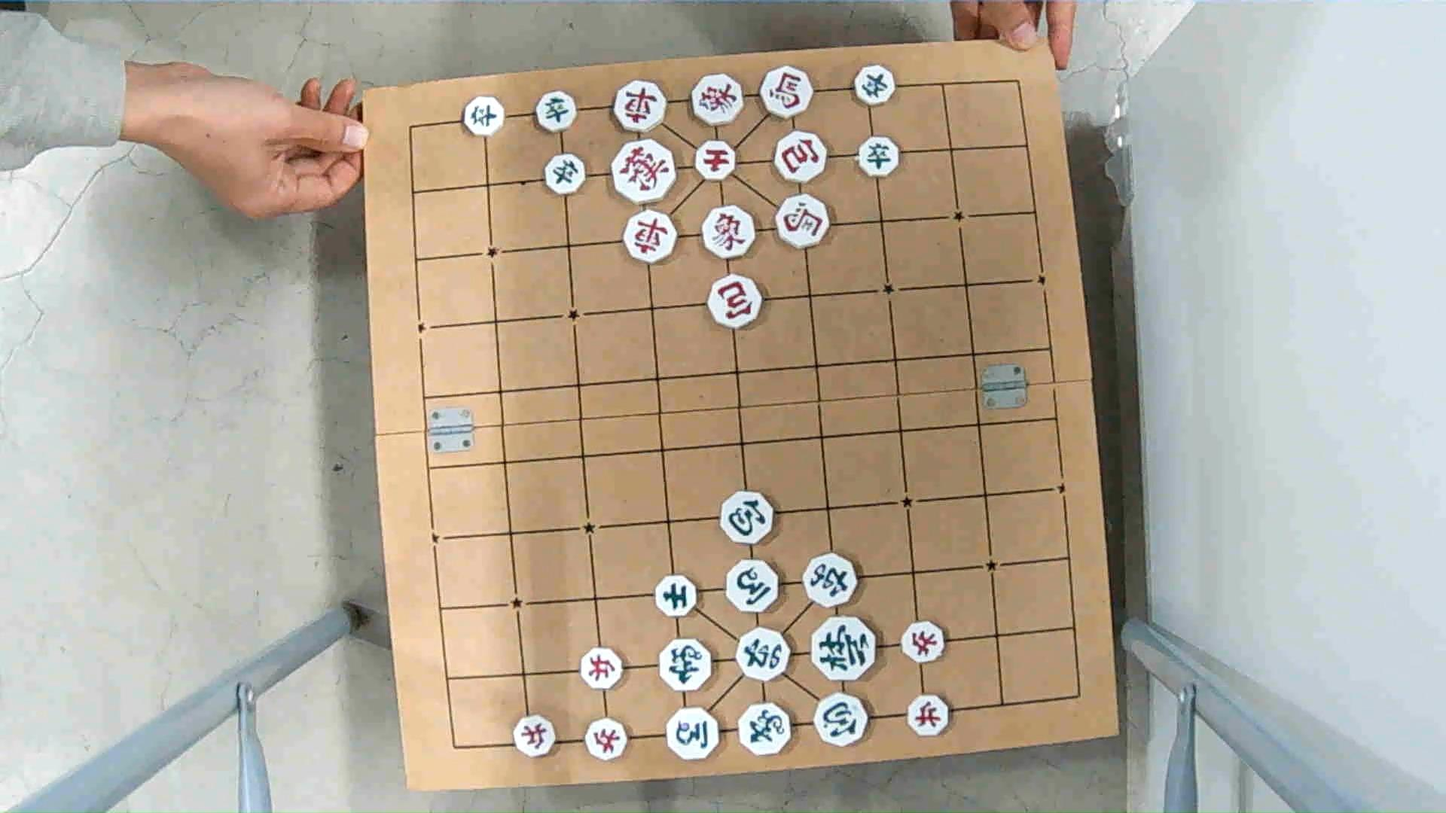cha_green: (801, 552, 862, 605), (738, 632, 795, 682)
cha_red: (624, 214, 678, 261), (615, 86, 668, 133)
jol_green: (857, 137, 901, 175), (856, 67, 898, 106), (462, 100, 505, 138), (544, 156, 587, 194), (535, 93, 577, 129)
jol_red: (575, 645, 627, 688), (585, 716, 628, 757), (902, 623, 947, 662), (514, 717, 559, 756), (908, 698, 950, 737)
ma_green: (663, 708, 720, 758), (728, 562, 782, 612)
ma_red: (777, 199, 832, 249), (758, 70, 813, 117)
po_green: (720, 489, 776, 547), (816, 696, 871, 745)
po_red: (706, 280, 762, 328), (776, 133, 831, 181)
sa_green: (651, 574, 701, 617)
sa_red: (695, 142, 739, 178)
sang_green: (655, 640, 713, 695), (740, 707, 796, 757)
sang_red: (700, 204, 756, 257), (693, 75, 748, 124)
wang_green: (813, 617, 879, 678)
wang_red: (611, 145, 677, 203)
